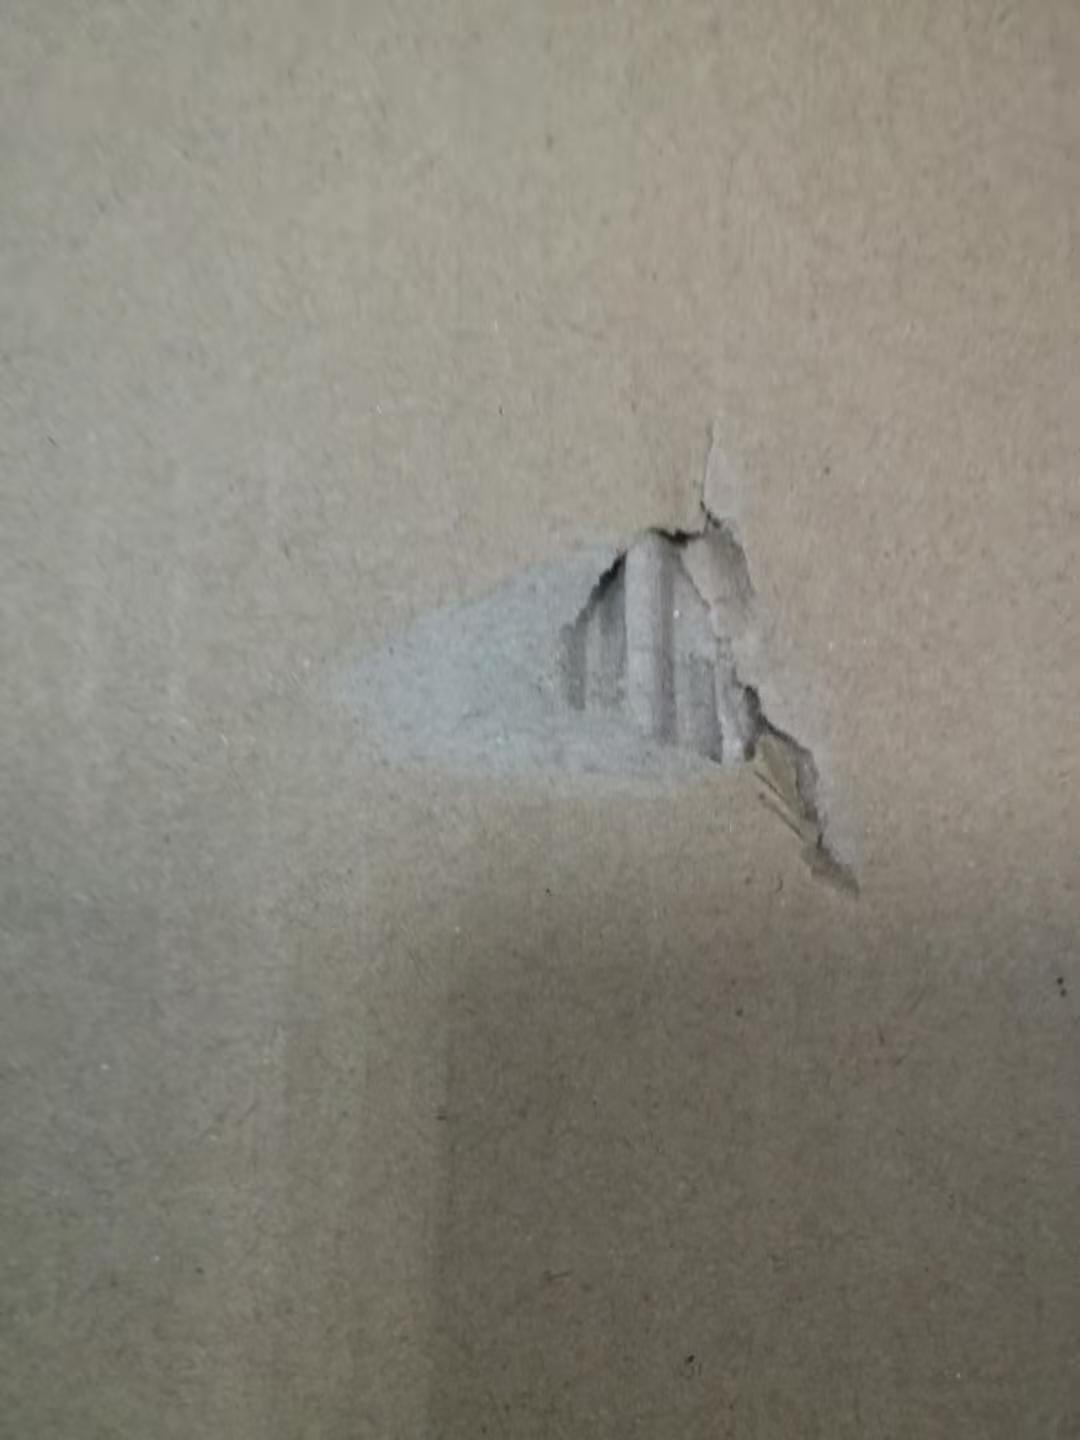defect: (269, 396, 933, 930)
